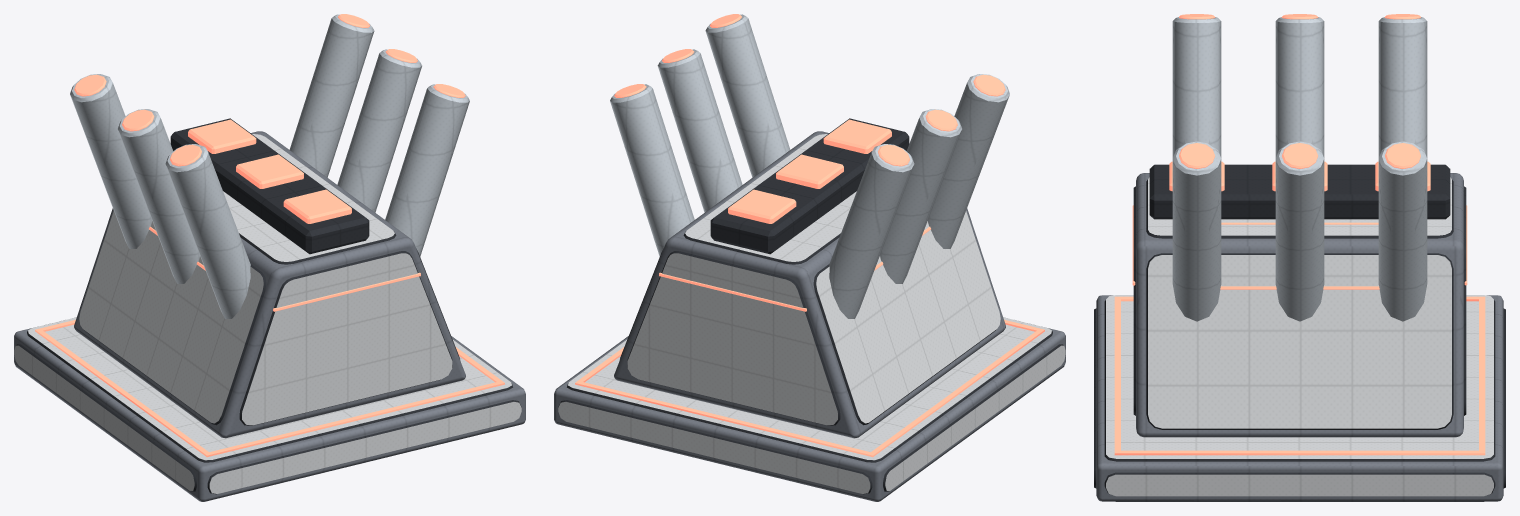
File: R4X_Overdrive.glb
3 views of the same model, side by side, from view 1: azimuth 30°, elevation 25°; view 2: azimuth 150°, elevation 25°; view 3: azimuth 270°, elevation 25° (orthographic). The views are drawn at different scales.
Parts seen in each view (by area): view 1: R4X_Overdrive_Body; view 2: R4X_Overdrive_Body; view 3: R4X_Overdrive_Body.
Boxes of the visible parts, x1=… form: R4X_Overdrive_Body: x1=14, y1=14, x2=525, y2=501; R4X_Overdrive_Body: x1=554, y1=14, x2=1065, y2=501; R4X_Overdrive_Body: x1=1094, y1=14, x2=1505, y2=501.
Size of the model in its own units: 0.52 by 0.4737 by 0.52.
Materials: 5 (4 with a texture image).
